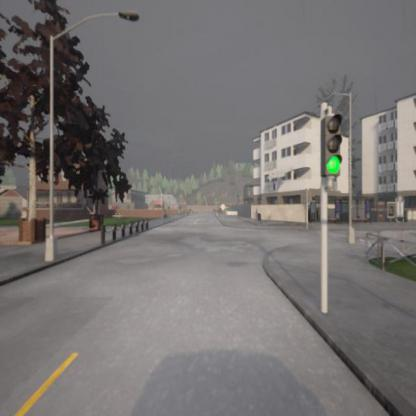traffic_light_green: (321, 114, 343, 177)
